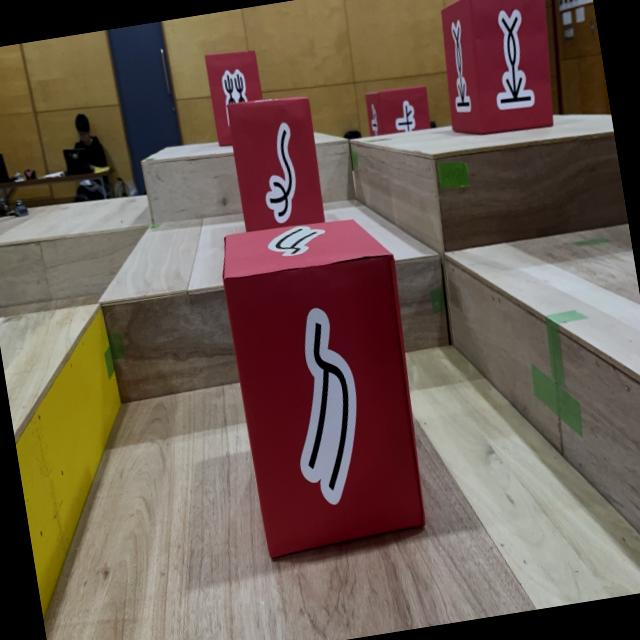fighter: (216, 209, 438, 562), (431, 0, 565, 141), (226, 92, 328, 234), (204, 45, 269, 147), (364, 82, 433, 135)
